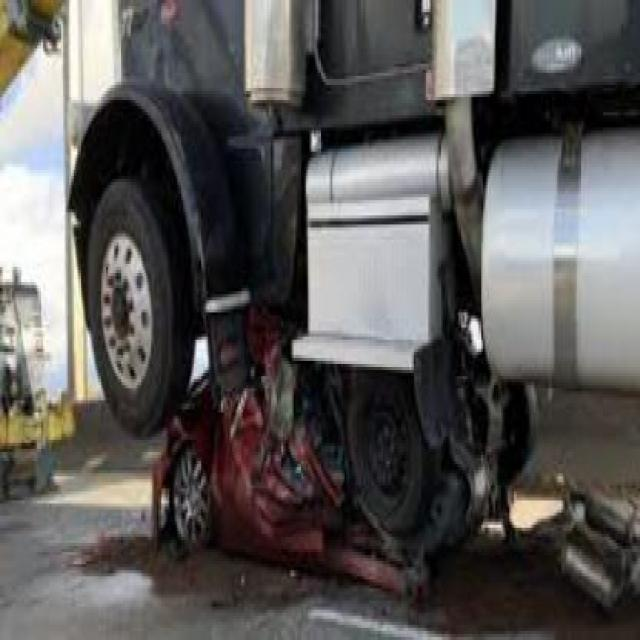accident: (57, 0, 640, 613)
